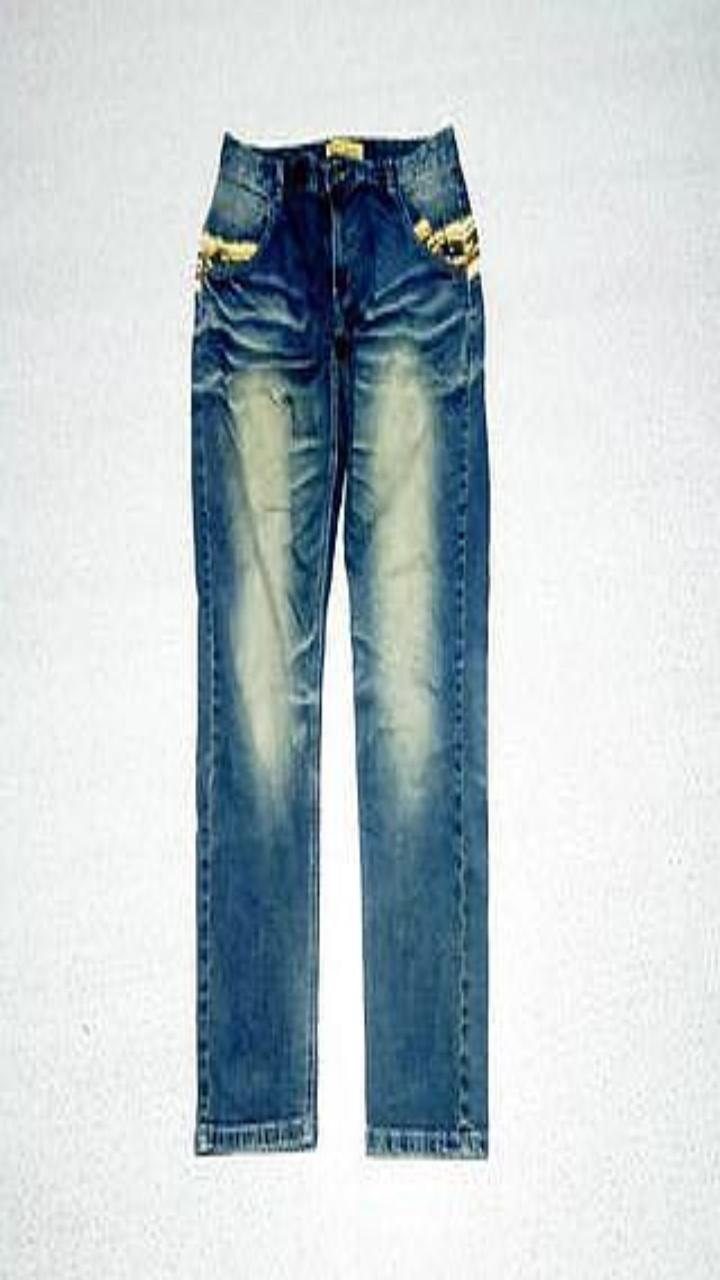Jeans: (192, 124, 489, 1156)
